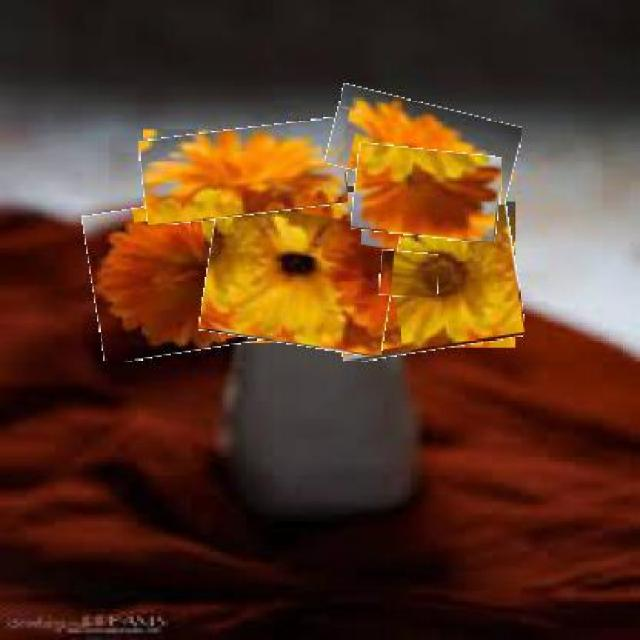Flower: (204, 179, 399, 352), (87, 193, 293, 356), (327, 196, 522, 356), (142, 123, 348, 222), (329, 95, 520, 196), (354, 147, 501, 241), (379, 251, 439, 298)
